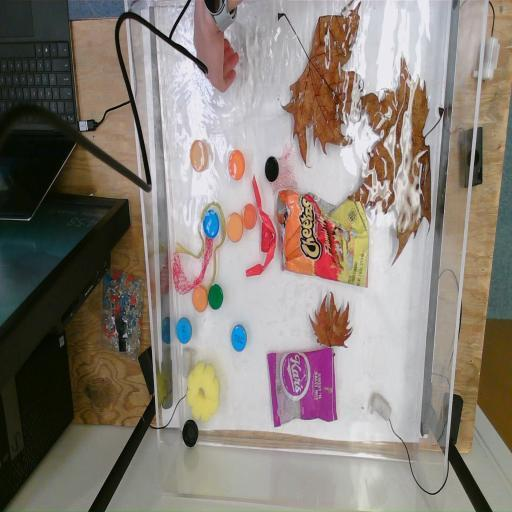Bottle Cap: (190, 140, 209, 172), (182, 418, 199, 452), (226, 212, 244, 243), (228, 149, 245, 180), (203, 209, 220, 240), (230, 324, 248, 352), (192, 286, 208, 314), (242, 203, 258, 230), (264, 156, 280, 183), (208, 285, 224, 312), (176, 318, 192, 344)
Cone Cap: (262, 222, 274, 254)
Leaf: (349, 58, 443, 254), (278, 3, 364, 160), (310, 286, 354, 357)
Netting: (172, 236, 214, 292), (271, 144, 300, 194)
Plastic Bag: (276, 186, 372, 290), (267, 351, 338, 428)
Plastic Strand: (178, 201, 228, 289), (245, 172, 277, 280)
Sponge: (188, 363, 222, 423)
